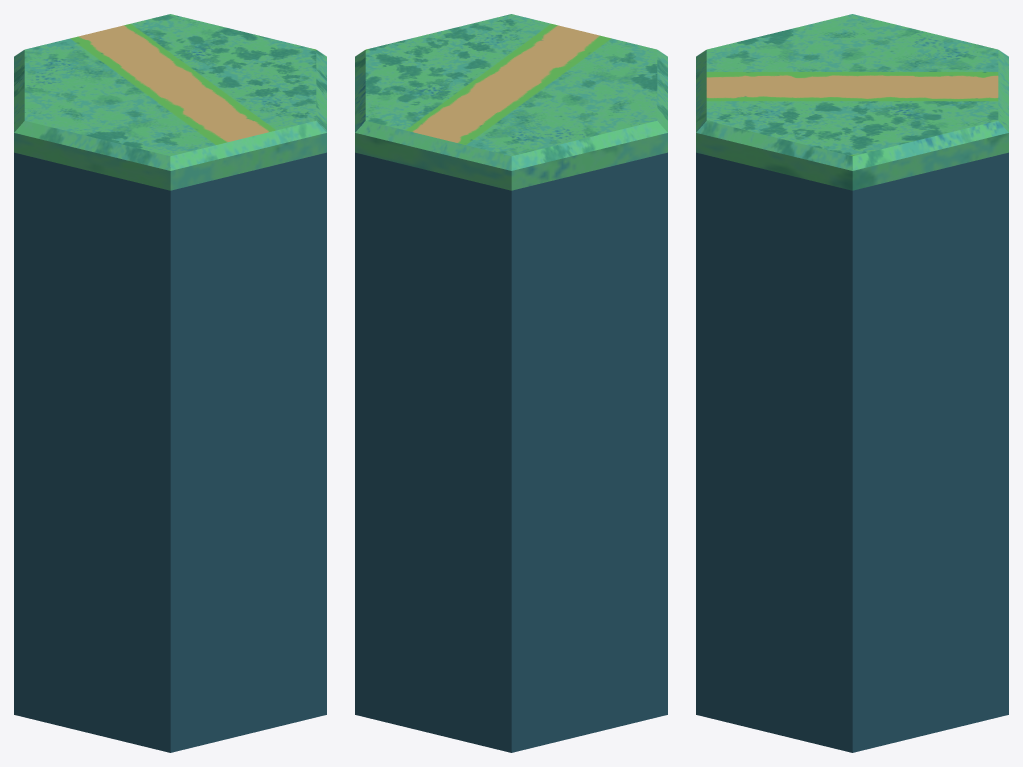
The model's file is TerrainStraightDark.fbx.
3 renders of one model, left to right at view 1: azimuth 30°, elevation 25°; view 2: azimuth 150°, elevation 25°; view 3: azimuth 270°, elevation 25°, orthographic.
Parts seen in each view (by area): view 1: TerrainStraightDark_LOD0; view 2: TerrainStraightDark_LOD0; view 3: TerrainStraightDark_LOD0.
Boxes of the visible parts, box(x1,y1,x2,y2) form: TerrainStraightDark_LOD0: box(14, 14, 326, 752); TerrainStraightDark_LOD0: box(355, 14, 667, 752); TerrainStraightDark_LOD0: box(696, 14, 1008, 752).
Size of what is drawn, in the model's own units: 500 by 904 by 433.
